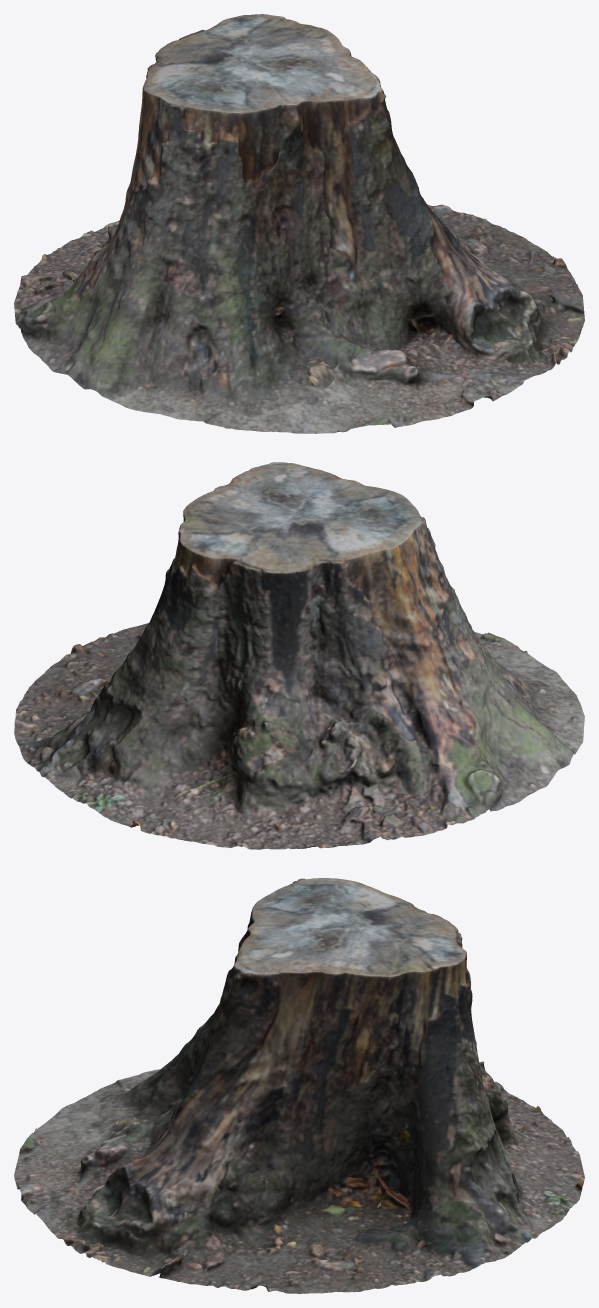
Rendered from stump_scan_6.glb.
3 renders of one model, top to bottom at view 1: azimuth 30°, elevation 25°; view 2: azimuth 150°, elevation 25°; view 3: azimuth 270°, elevation 25°, orthographic.
Visible parts, largest first — view 1: Object_2, Object_3; view 2: Object_2, Object_3; view 3: Object_2, Object_3.
Boxes of the visible parts, bbox=[...] form: Object_2: bbox=[14, 14, 584, 433]; Object_3: bbox=[74, 31, 584, 363]; Object_2: bbox=[14, 462, 584, 849]; Object_3: bbox=[36, 505, 438, 849]; Object_2: bbox=[14, 878, 584, 1293]; Object_3: bbox=[74, 883, 581, 1276].
Size of the model in its own units: 1.27 by 0.5965 by 1.28.
Materials: 1 (1 with a texture image).
